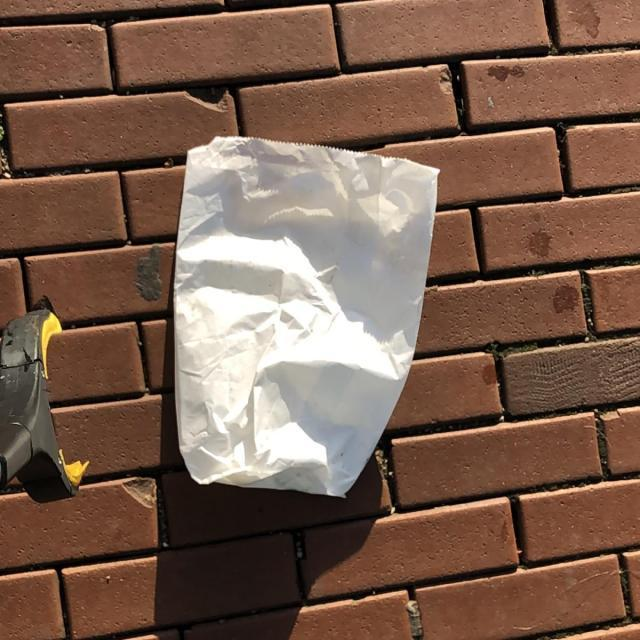Paper: (171, 132, 441, 502)
